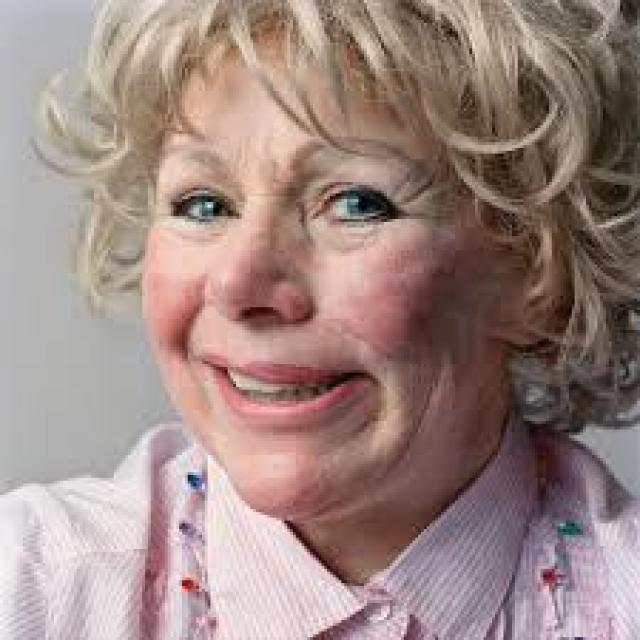normal_face: (118, 6, 535, 522)
